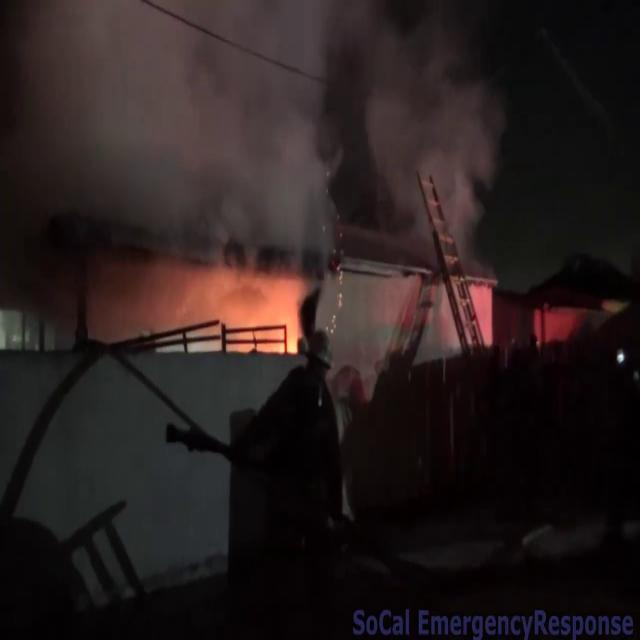Fire: (150, 247, 312, 352)
Smoke: (0, 0, 514, 254)
